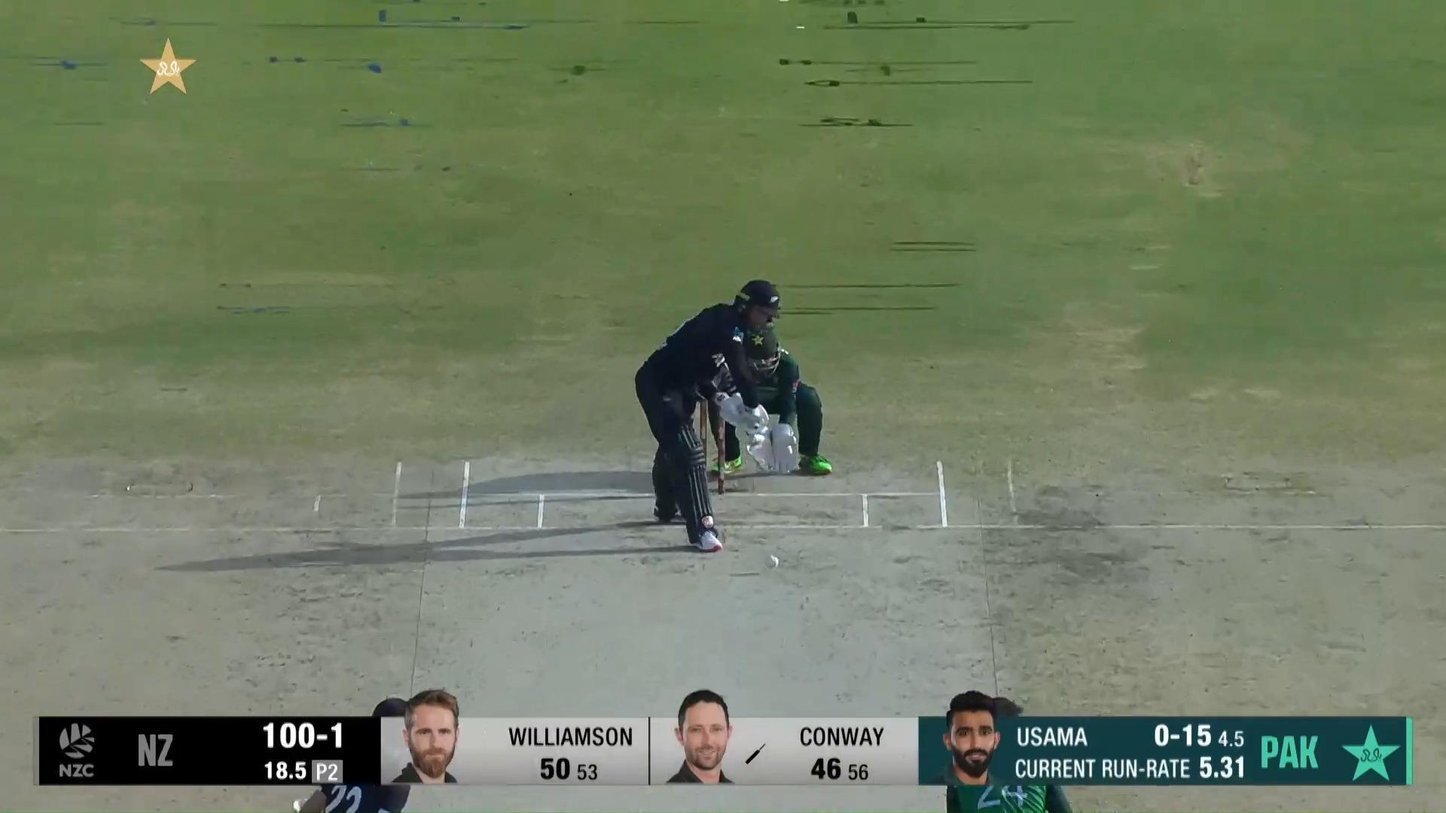BM 1: (634, 276, 783, 553)
BO: (945, 695, 1074, 813)
